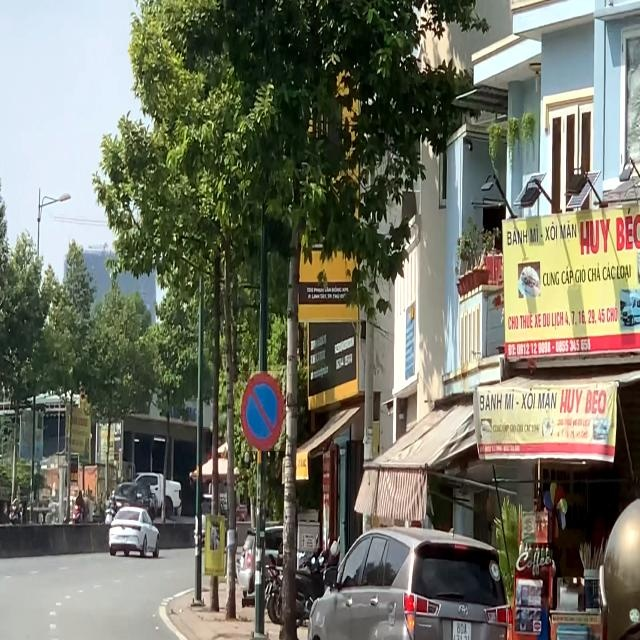bien_cam: (241, 371, 285, 451)
